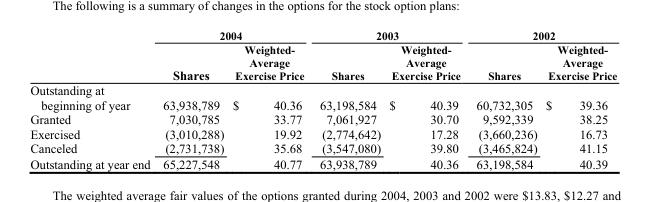table: (29, 29, 616, 170)
table column: (29, 29, 156, 170), (227, 29, 311, 170), (384, 29, 467, 170), (540, 29, 616, 170), (311, 29, 384, 170), (467, 29, 540, 170), (156, 29, 227, 170)
table column header: (29, 29, 616, 82)
table row: (29, 42, 616, 82), (29, 82, 616, 111), (29, 111, 616, 126), (29, 140, 616, 155), (29, 155, 616, 170), (29, 126, 616, 140), (29, 29, 616, 42)
table spanning cell: (311, 29, 467, 42), (156, 29, 311, 42), (467, 29, 616, 42)
